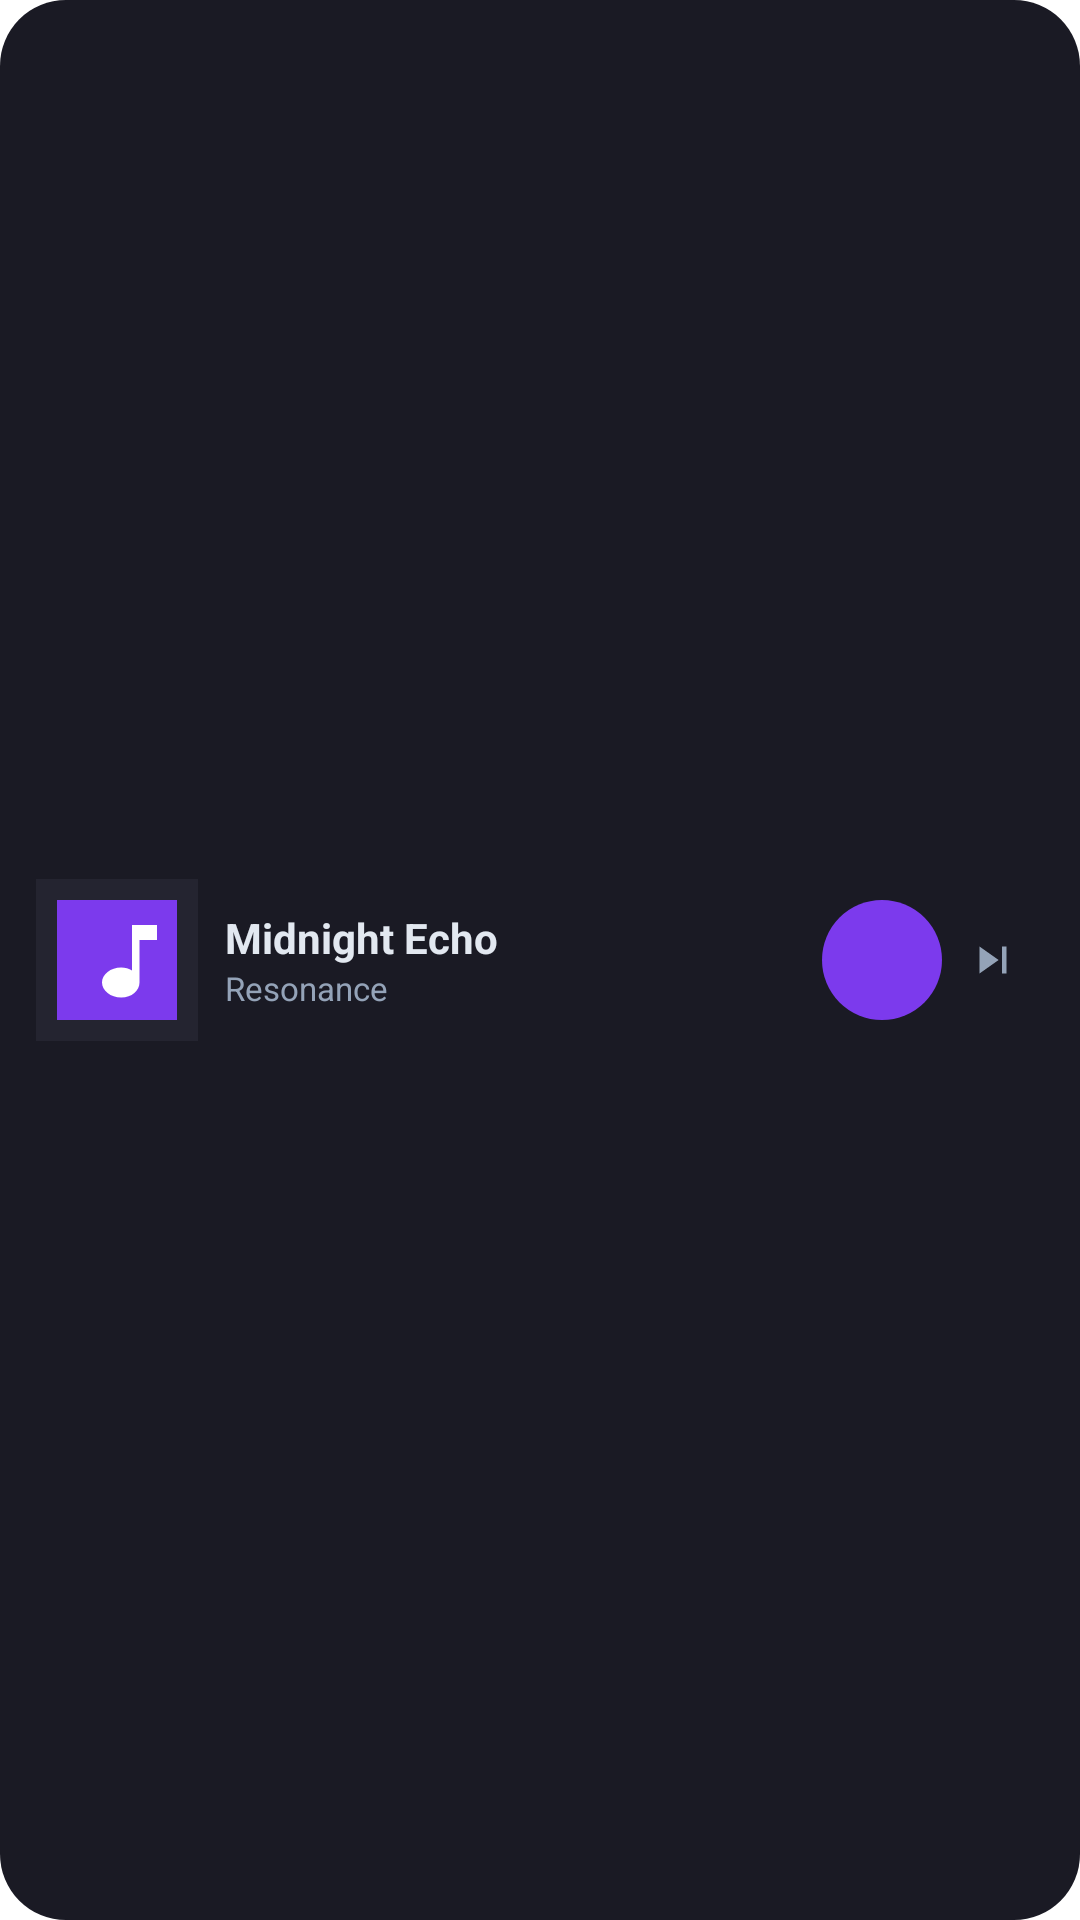

Where to tap for icons on this 1080px x 1920px app screen, as (x=x, y=y):
Album artwork: (x=117, y=960)
Next: (x=993, y=960)
